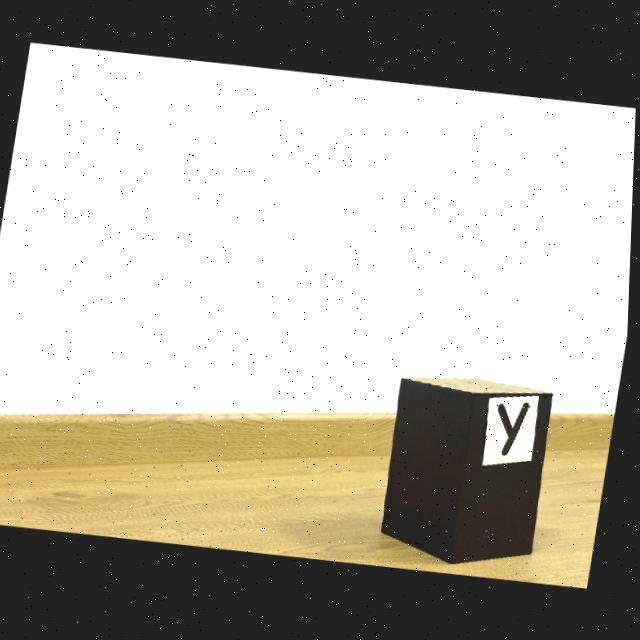Y: (501, 404, 532, 457)
